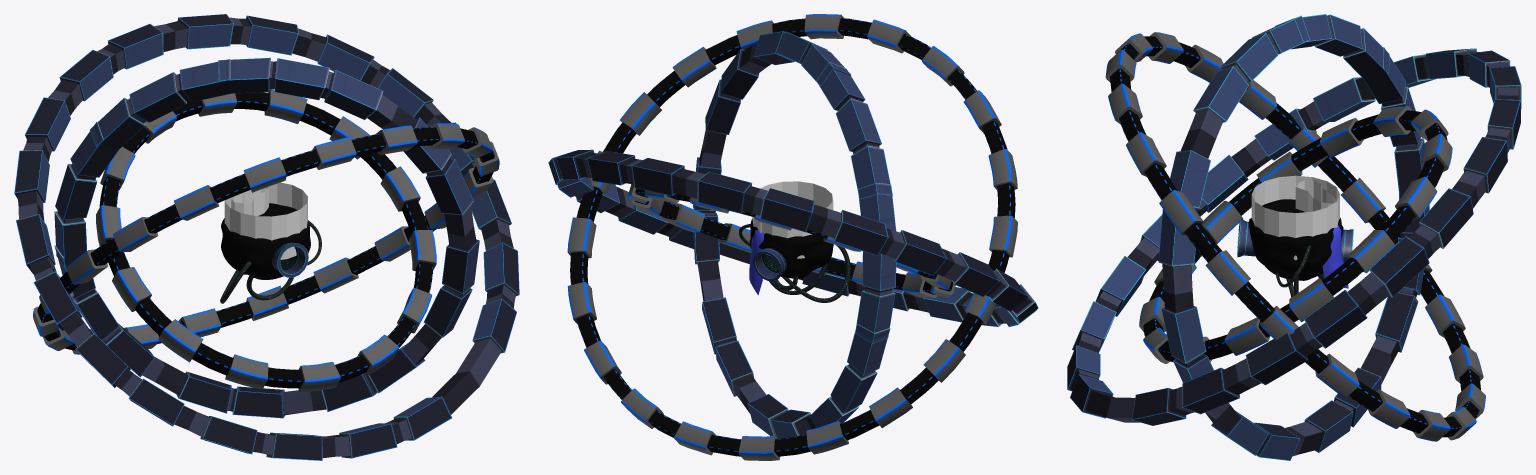
File: Rotate.fbx
3 views of the same model, side by side, from view 1: azimuth 30°, elevation 25°; view 2: azimuth 150°, elevation 25°; view 3: azimuth 270°, elevation 25° (orthographic). The views are drawn at different scales.
Visible parts, largest first — view 1: Cube.005, Cube.006, Cube.001, Cube.002, Cylinder.003, Cylinder, NurbsPath.001, Cylinder.001, Plane; view 2: Cube.002, Cube.006, Cube.005, Cube.001, Cylinder, Cylinder.003, NurbsPath.001, Cylinder.001, Cylinder.002; view 3: Cube.005, Cube.006, Cube.002, Cube.001, Cylinder.003, Cylinder, Plane, Cylinder.001, Cylinder.002.
Part boxes in pixels (left/top/right/bottom): Cube.005: left=14, top=14, right=519, bottom=460; Cube.006: left=54, top=57, right=479, bottom=418; Cube.001: left=96, top=89, right=436, bottom=392; Cube.002: left=33, top=123, right=499, bottom=354; Cylinder.003: left=224, top=182, right=307, bottom=259; Cylinder: left=221, top=203, right=310, bottom=279; NurbsPath.001: left=220, top=220, right=321, bottom=303; Cylinder.001: left=271, top=242, right=308, bottom=277; Plane: left=231, top=186, right=268, bottom=215; Cube.002: left=567, top=14, right=1017, bottom=460; Cube.006: left=693, top=31, right=896, bottom=438; Cube.005: left=548, top=149, right=1038, bottom=326; Cube.001: left=627, top=184, right=955, bottom=297; Cylinder: left=749, top=219, right=833, bottom=278; Cylinder.003: left=752, top=181, right=833, bottom=258; NurbsPath.001: left=739, top=224, right=850, bottom=302; Cylinder.001: left=753, top=248, right=787, bottom=281; Cylinder.002: left=749, top=230, right=764, bottom=295; Cube.005: left=1067, top=48, right=1521, bottom=425; Cube.006: left=1158, top=14, right=1429, bottom=460; Cube.002: left=1105, top=32, right=1485, bottom=441; Cube.001: left=1139, top=106, right=1452, bottom=363; Cylinder.003: left=1251, top=175, right=1339, bottom=260; Cylinder: left=1249, top=199, right=1343, bottom=280; Plane: left=1295, top=180, right=1337, bottom=227; Cylinder.001: left=1237, top=219, right=1353, bottom=262; Cylinder.002: left=1322, top=224, right=1348, bottom=288.
Size of the model in its own units: 1068 by 854 by 872.
